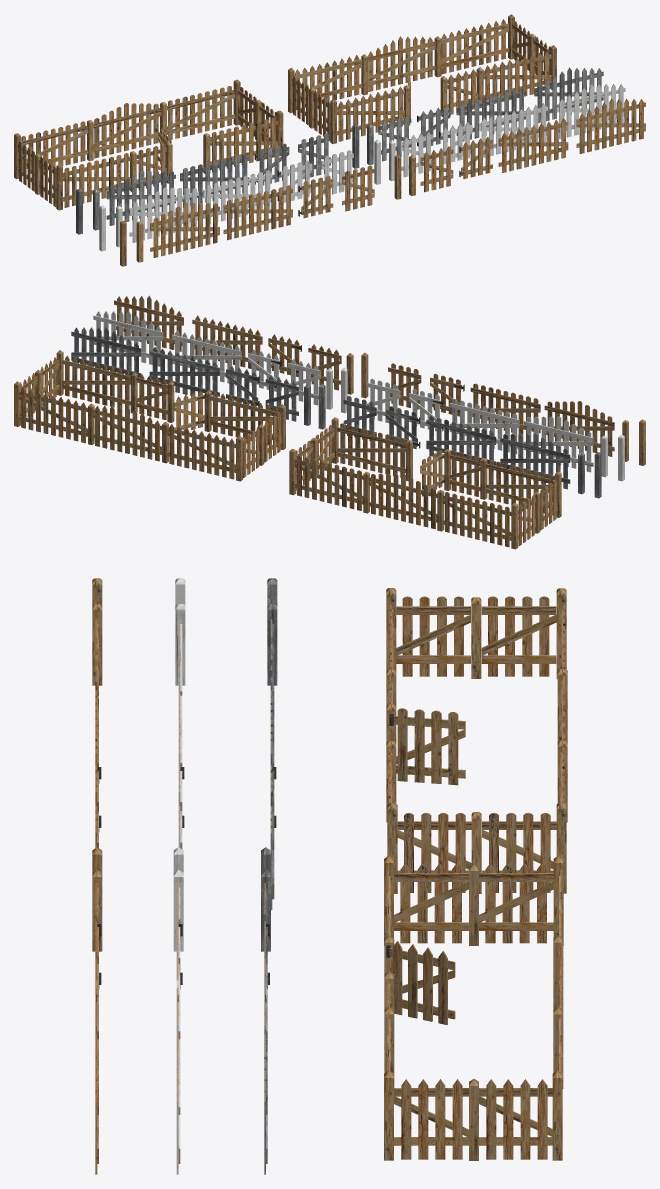
File: fence-wood.glb
3 renders of one model, top to bottom at view 1: azimuth 30°, elevation 25°; view 2: azimuth 150°, elevation 25°; view 3: azimuth 270°, elevation 25°, orthographic. The views are drawn at different scales.
Parts seen in each view (by area): view 1: FenceStyle1Long_Wood_T_0, FenceStyle1Long_Gray_T_0, FenceStyle1Long_White_Wash_T_0; view 2: FenceStyle1Long_Wood_T_0, FenceStyle1Long_Gray_T_0, FenceStyle1Long_White_Wash_T_0; view 3: FenceStyle1Long_Wood_T_0, FenceStyle1Long_White_Wash_T_0, FenceStyle1Long_Gray_T_0.
Part boxes in pixels (x1=…): FenceStyle1Long_Wood_T_0: x1=14, y1=14, x2=645, y2=266; FenceStyle1Long_Gray_T_0: x1=76, y1=67, x2=603, y2=234; FenceStyle1Long_White_Wash_T_0: x1=99, y1=83, x2=625, y2=251; FenceStyle1Long_Wood_T_0: x1=14, y1=295, x2=645, y2=549; FenceStyle1Long_Gray_T_0: x1=71, y1=327, x2=601, y2=498; FenceStyle1Long_White_Wash_T_0: x1=93, y1=311, x2=624, y2=481; FenceStyle1Long_Wood_T_0: x1=92, y1=578, x2=567, y2=1174; FenceStyle1Long_White_Wash_T_0: x1=173, y1=578, x2=185, y2=1174; FenceStyle1Long_Gray_T_0: x1=261, y1=578, x2=277, y2=1174.
Bounding box in the file's own units: 15.19 × 1.33 × 5.96.
3 materials, 3 textured.
